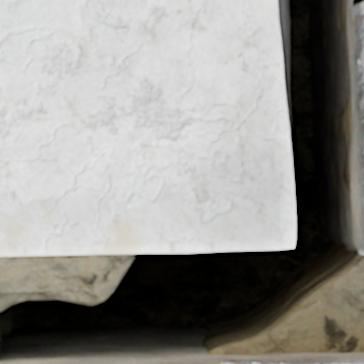brick: (0, 0, 294, 255), (346, 0, 363, 252), (11, 353, 363, 363)
crack: (0, 0, 363, 363), (352, 0, 363, 7)
